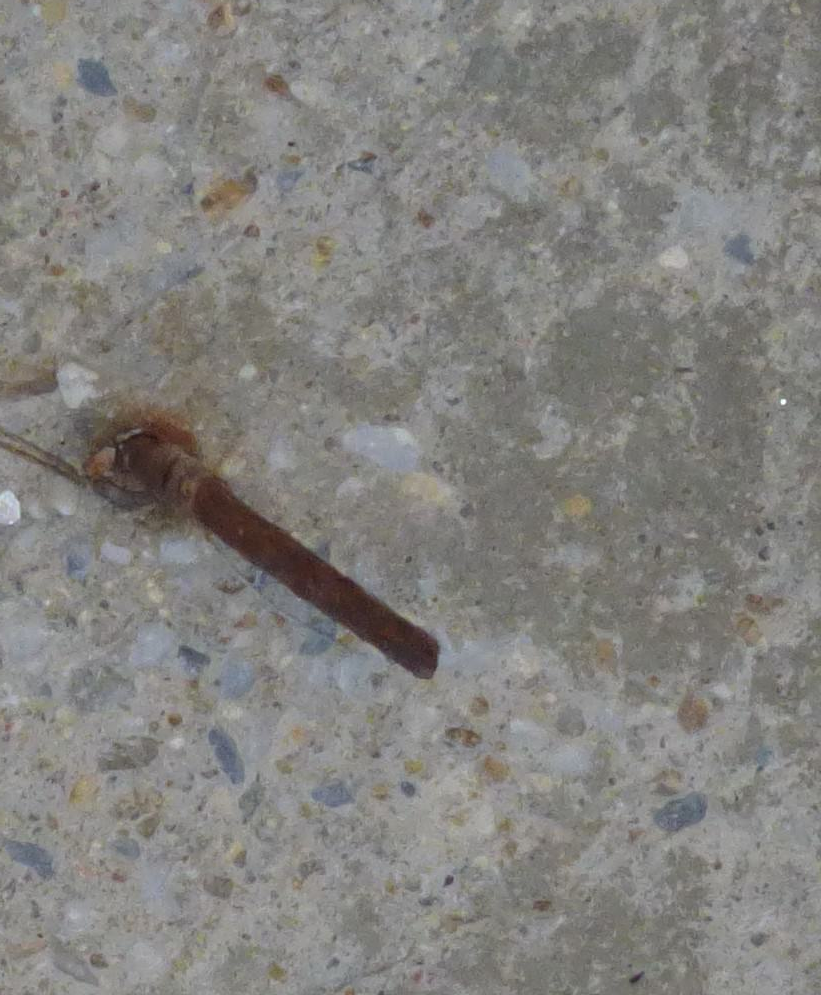Exposed reinforcement: (125, 438, 441, 680)
